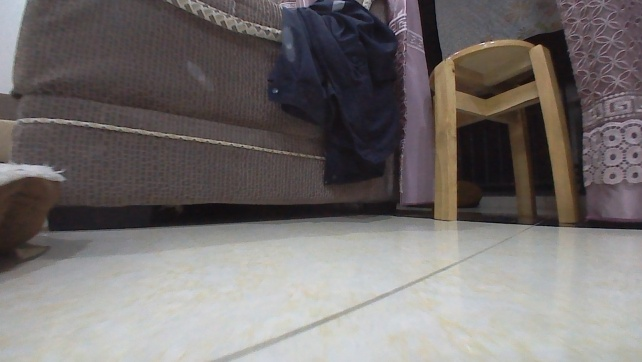sofe1: (0, 0, 405, 231)
